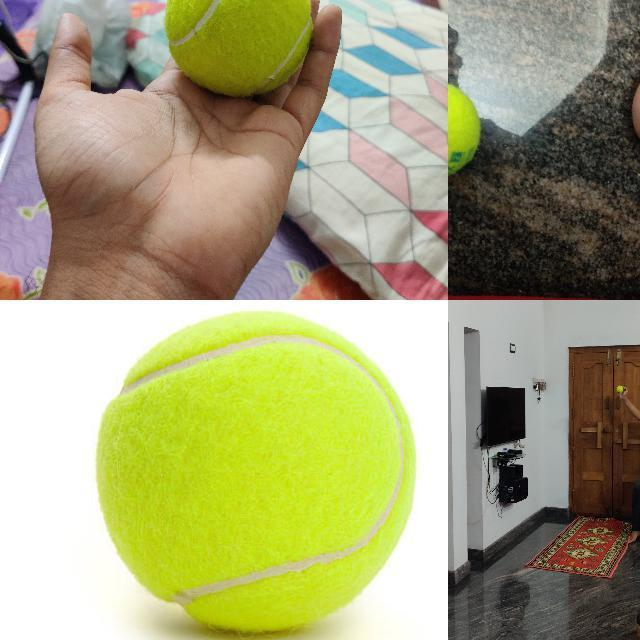tennis-ball: (95, 311, 416, 632), (162, 0, 314, 99), (448, 79, 482, 179), (616, 386, 623, 393)
